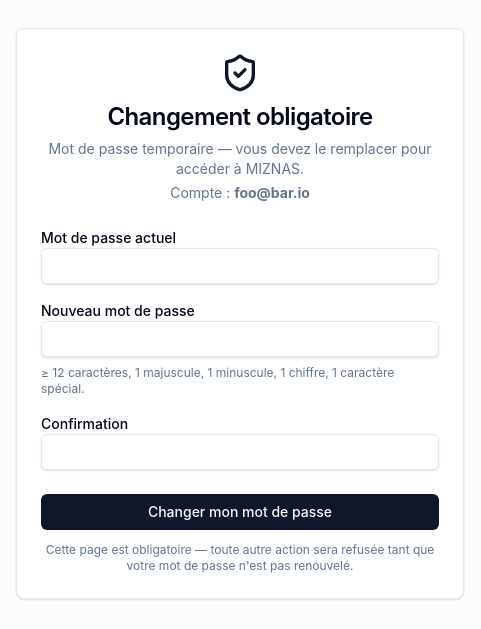
Scenario: ForceChangePasswordPage › refuse confirmation différente du nouveau mdp
Type "OldPass!2025" into the password field with test id "cm-ancien" at (240, 266), box top-left (41, 248), bottom-right (439, 284)
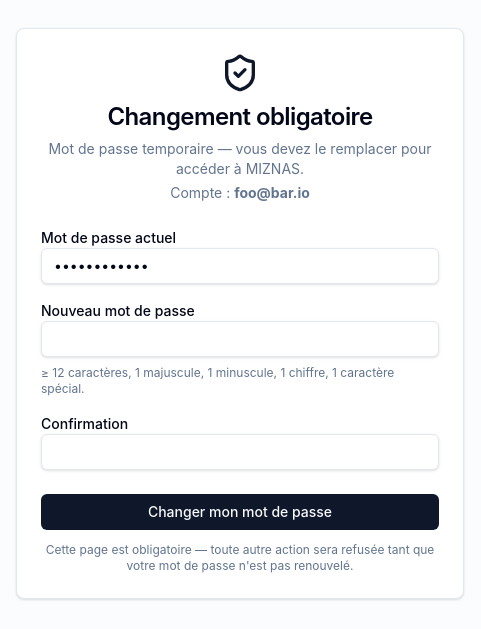
Type "NewPass!2026" into the password field with test id "cm-nouveau" at (240, 338), box top-left (41, 320), bottom-right (439, 356)
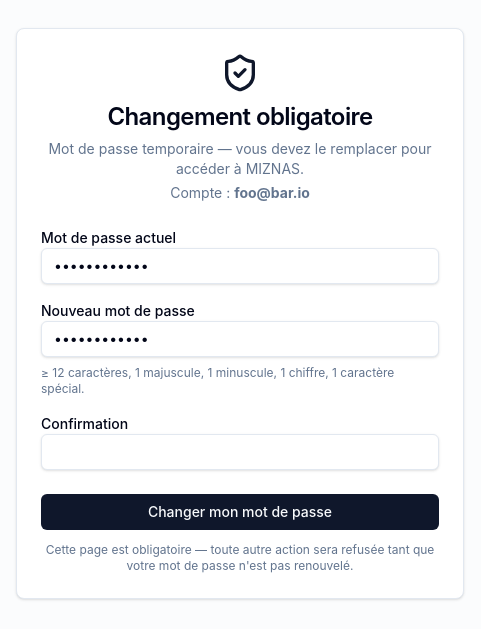
Type "NewPass!9999" into the password field with test id "cm-confirmation" at (240, 452), box top-left (41, 434), bottom-right (439, 470)
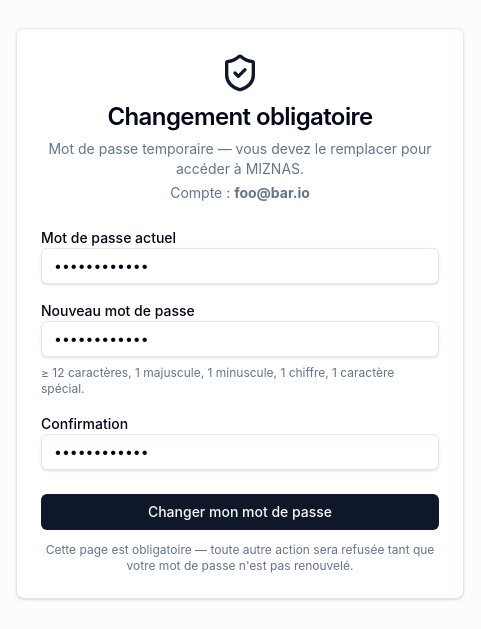
Click the button with test id "cm-submit" at (240, 512), box top-left (41, 494), bottom-right (439, 530)
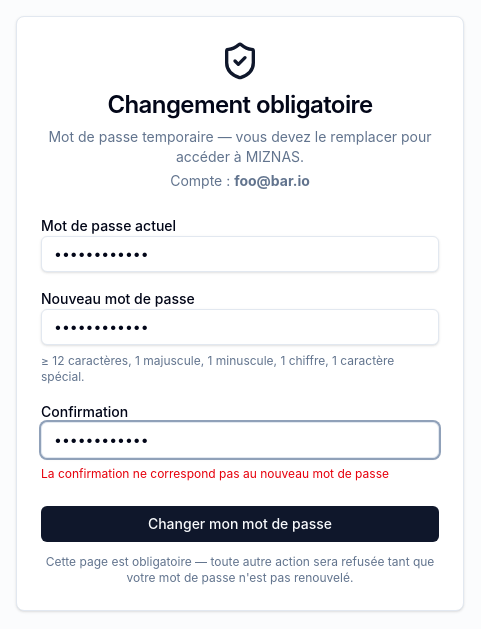
expect the text "La confirmation ne correspond pas au nouveau mot de passe" is shown: met, box top-left (41, 466), bottom-right (439, 482)
